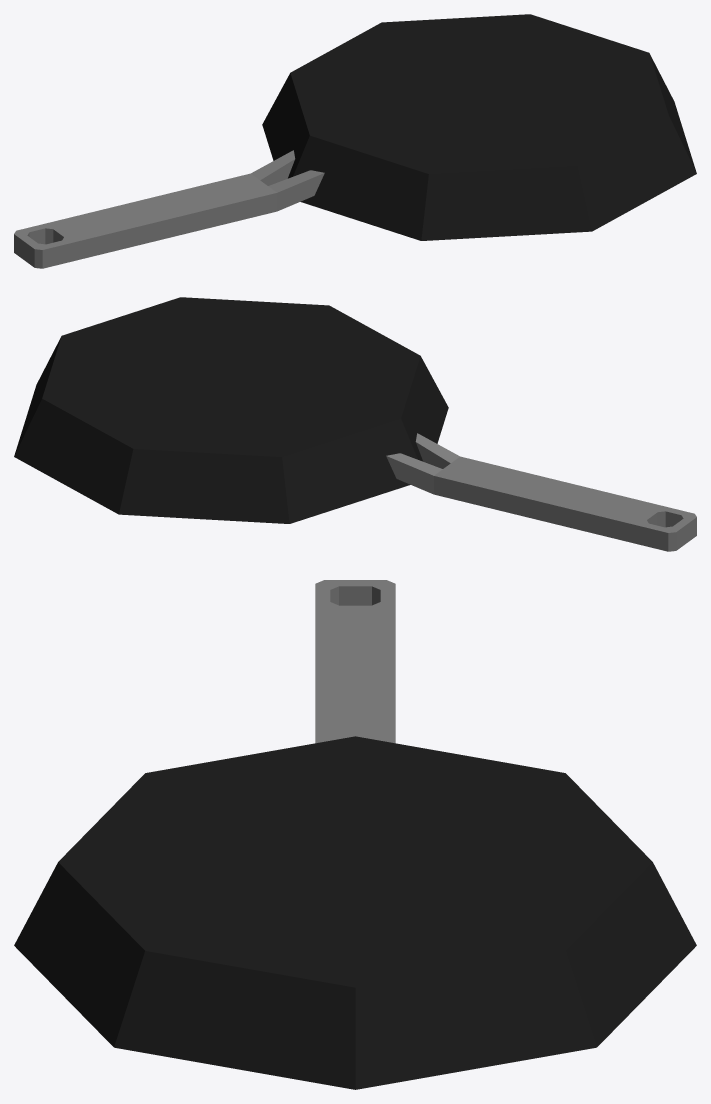
The model's file is frying_pan.glb.
The picture shows the model from 3 angles, top to bottom: view 1: azimuth 30°, elevation 25°; view 2: azimuth 150°, elevation 25°; view 3: azimuth 270°, elevation 25°; orthographic projection. The views are drawn at different scales.
Parts seen in each view (by area): view 1: frying_pan; view 2: frying_pan; view 3: frying_pan.
Boxes of the visible parts, x1,y1,x2,y2 form: frying_pan: (14, 14, 696, 268); frying_pan: (14, 297, 696, 551); frying_pan: (14, 580, 696, 1089).
Bounding box in the file's own units: 0.3631 × 0.0294 × 0.2177.
Materials: 1 (1 with a texture image).
